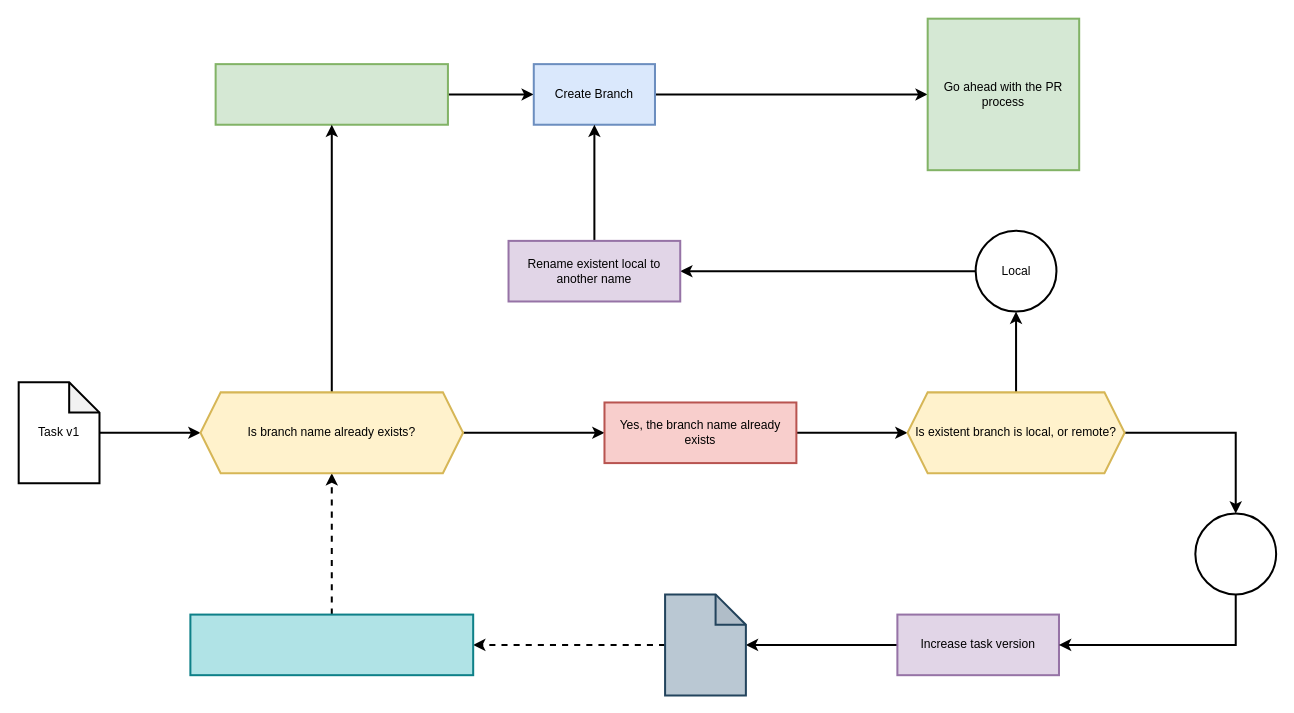
Image size: 1294x713. Some labels were removed from this diagram. Here are the shapes that lost their labels. From the top down, the centre of each, then its label:
(x=331, y=94): No, the branch name is available
(x=1235, y=553): Remote
(x=331, y=644): Repeat the same process
(x=705, y=644): Task v++
